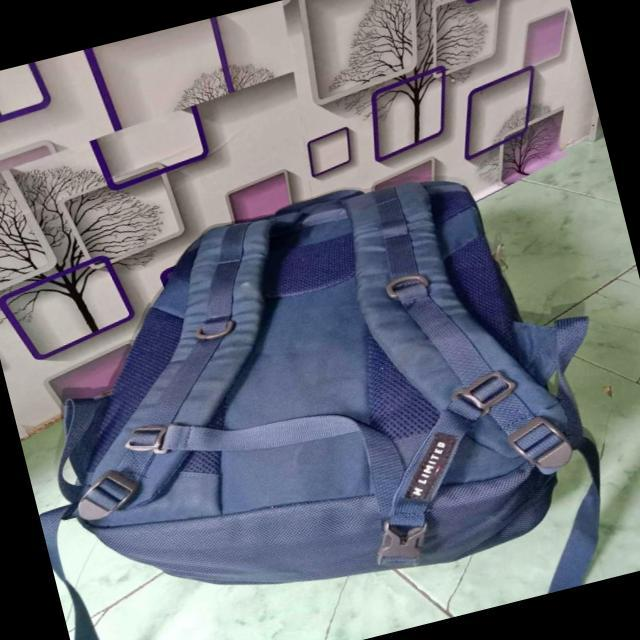bag: (68, 182, 557, 582)
